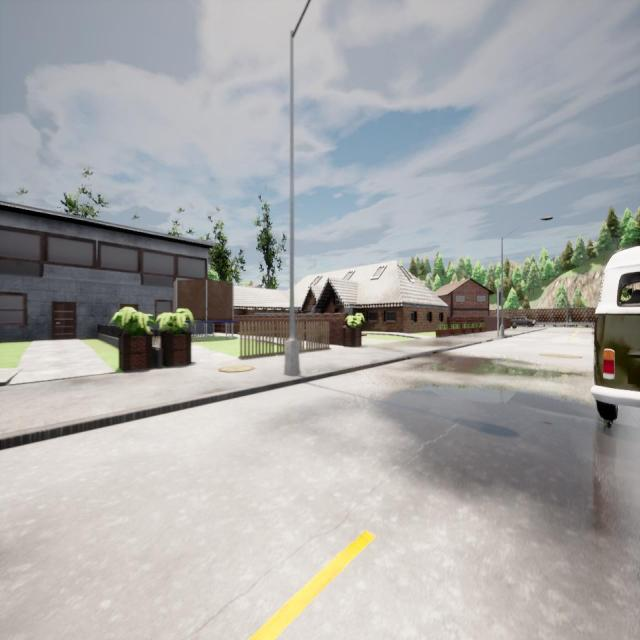Vehicle: (591, 246, 639, 420), (511, 316, 536, 326)
traffic_light: (497, 292, 501, 304)
